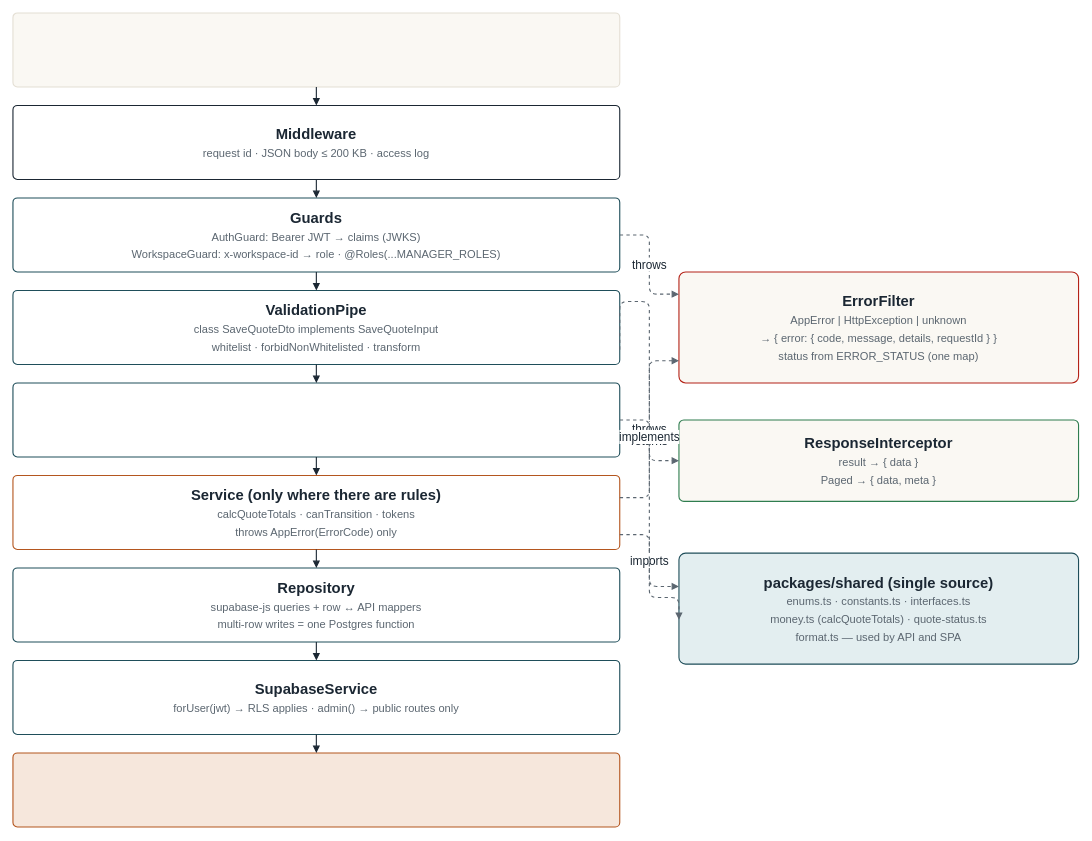
Some shapes in this 1092 by 841 pixel diagram are drawn without their labels. Here are the shapes that lost their labels. From the top down, the centre of each, then its label:
At [316,49]: "HTTP request Vercel → Express adapter (serverless.ts)".
At [316,419]: "Controller HTTP only: params → service → result".
At [316,789]: "Postgres RLS · is_member() · save_quote() … · quotes_view".
